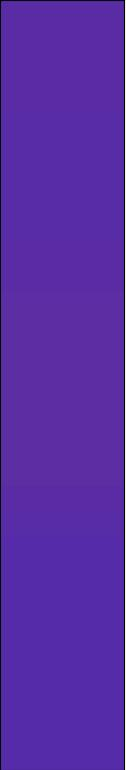safe: (11, 12, 116, 755)
